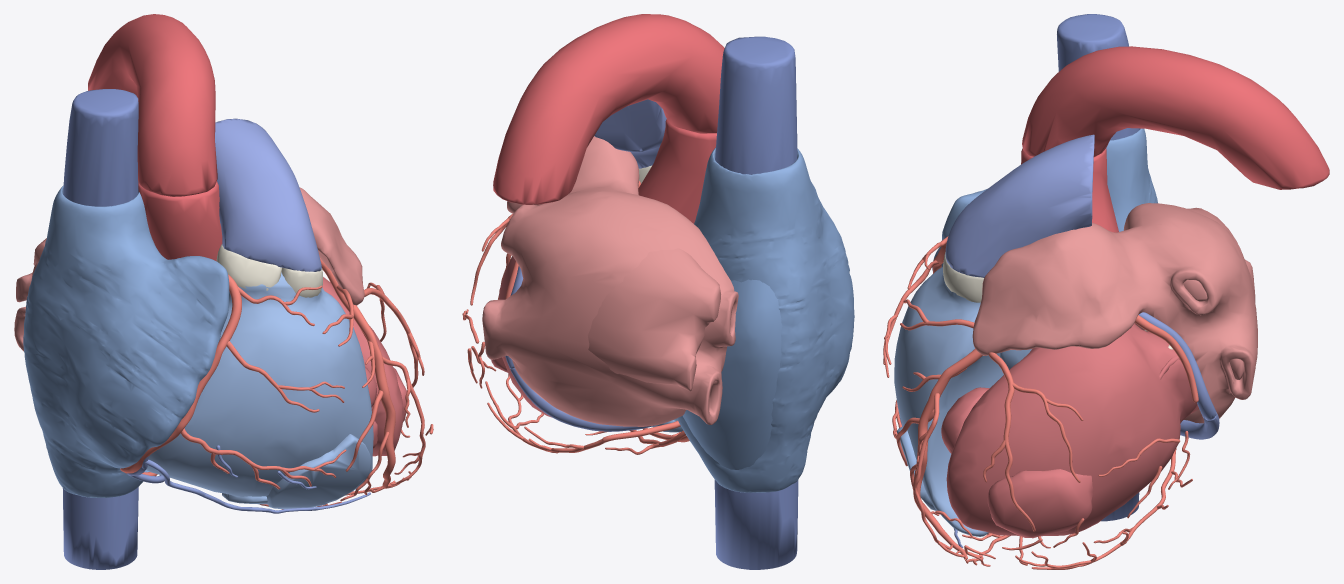
File: heart.glb
3 renders of one model, left to right at view 1: azimuth 30°, elevation 25°; view 2: azimuth 150°, elevation 25°; view 3: azimuth 270°, elevation 25°, orthographic. The views are drawn at different scales.
Visible parts, largest first — view 1: Heart_RightAtrium, Heart_RightVentricle, Heart_Aorta, Heart_PulmonaryTrunk, Heart_CoronaryArteries, Heart_SuperiorVenaCava, Heart_InferiorVenaCava, Heart_LeftAtrium, Heart_LeftVentricle, Heart_PulmonaryValve, Heart_CardiacVeins; view 2: Heart_LeftAtrium, Heart_RightAtrium, Heart_Aorta, Heart_SuperiorVenaCava, Heart_InferiorVenaCava, Heart_CoronaryArteries, Heart_PulmonaryTrunk, Heart_CardiacVeins, Heart_LeftVentricle; view 3: Heart_LeftVentricle, Heart_LeftAtrium, Heart_Aorta, Heart_RightVentricle, Heart_PulmonaryTrunk, Heart_CoronaryArteries, Heart_RightAtrium, Heart_SuperiorVenaCava, Heart_CardiacVeins, Heart_PulmonaryValve.
Part boxes in pixels (bbox=[...]): Heart_RightAtrium: bbox=[23, 185, 229, 497]; Heart_RightVentricle: bbox=[146, 272, 373, 508]; Heart_Aorta: bbox=[88, 14, 222, 261]; Heart_PulmonaryTrunk: bbox=[215, 118, 321, 271]; Heart_CoronaryArteries: bbox=[120, 258, 433, 509]; Heart_SuperiorVenaCava: bbox=[63, 89, 138, 206]; Heart_InferiorVenaCava: bbox=[62, 487, 138, 569]; Heart_LeftAtrium: bbox=[14, 187, 364, 351]; Heart_LeftVentricle: bbox=[322, 277, 407, 455]; Heart_PulmonaryValve: bbox=[216, 244, 322, 297]; Heart_CardiacVeins: bbox=[127, 445, 370, 513]; Heart_LeftAtrium: bbox=[482, 136, 738, 426]; Heart_RightAtrium: bbox=[677, 147, 854, 492]; Heart_Aorta: bbox=[493, 14, 724, 223]; Heart_SuperiorVenaCava: bbox=[715, 36, 797, 174]; Heart_InferiorVenaCava: bbox=[714, 479, 798, 569]; Heart_CoronaryArteries: bbox=[462, 181, 689, 454]; Heart_PulmonaryTrunk: bbox=[594, 99, 666, 168]; Heart_CardiacVeins: bbox=[505, 266, 655, 431]; Heart_LeftVentricle: bbox=[491, 256, 551, 417]; Heart_LeftVentricle: bbox=[941, 323, 1198, 538]; Heart_LeftAtrium: bbox=[972, 203, 1257, 423]; Heart_Aorta: bbox=[1021, 46, 1329, 232]; Heart_RightVentricle: bbox=[894, 266, 1031, 536]; Heart_PulmonaryTrunk: bbox=[945, 134, 1094, 277]; Heart_CoronaryArteries: bbox=[883, 236, 1198, 569]; Heart_RightAtrium: bbox=[932, 128, 1157, 270]; Heart_SuperiorVenaCava: bbox=[1057, 14, 1139, 140]; Heart_CardiacVeins: bbox=[899, 312, 1219, 547]; Heart_PulmonaryValve: bbox=[943, 252, 983, 302].
Bounding box in the file's own units: 0.1157 × 0.1571 × 0.1267.
